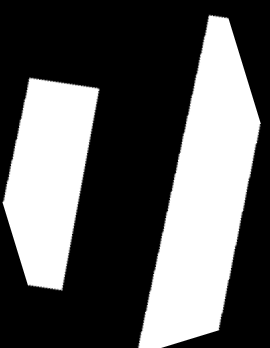parkingspot: (138, 15, 261, 348), (2, 78, 99, 290)
